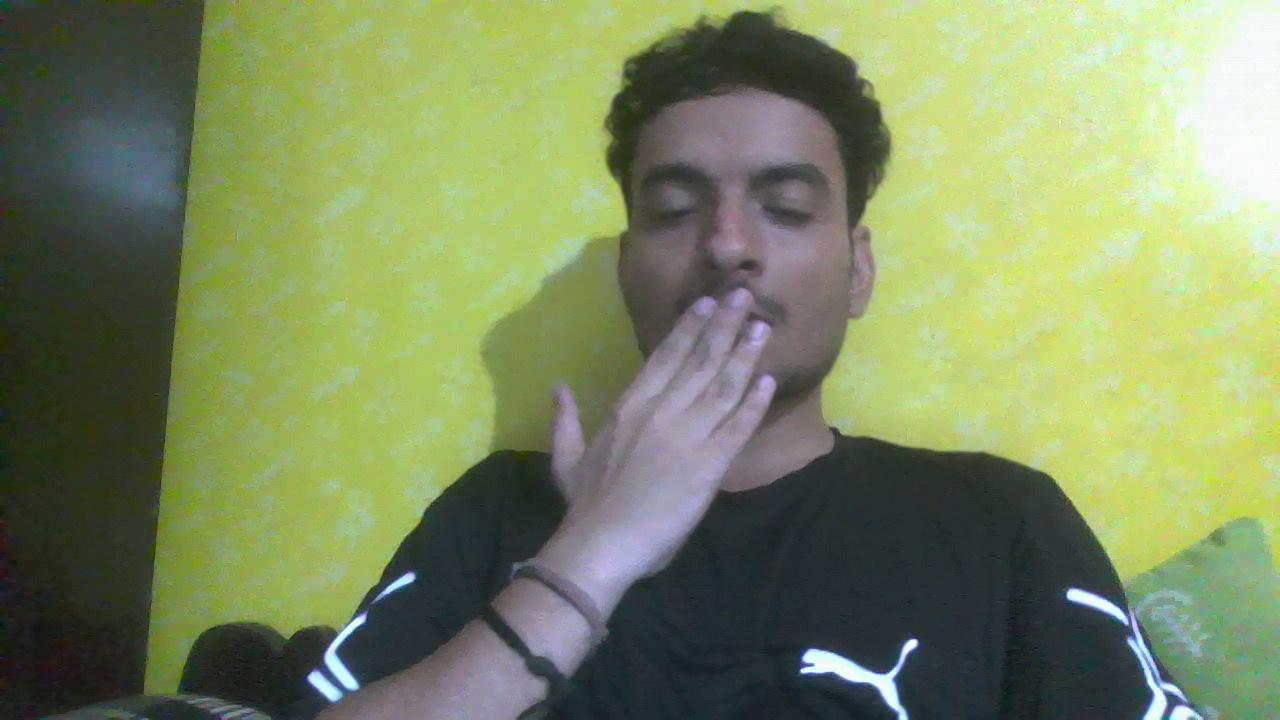Thank You: (524, 256, 822, 587)
